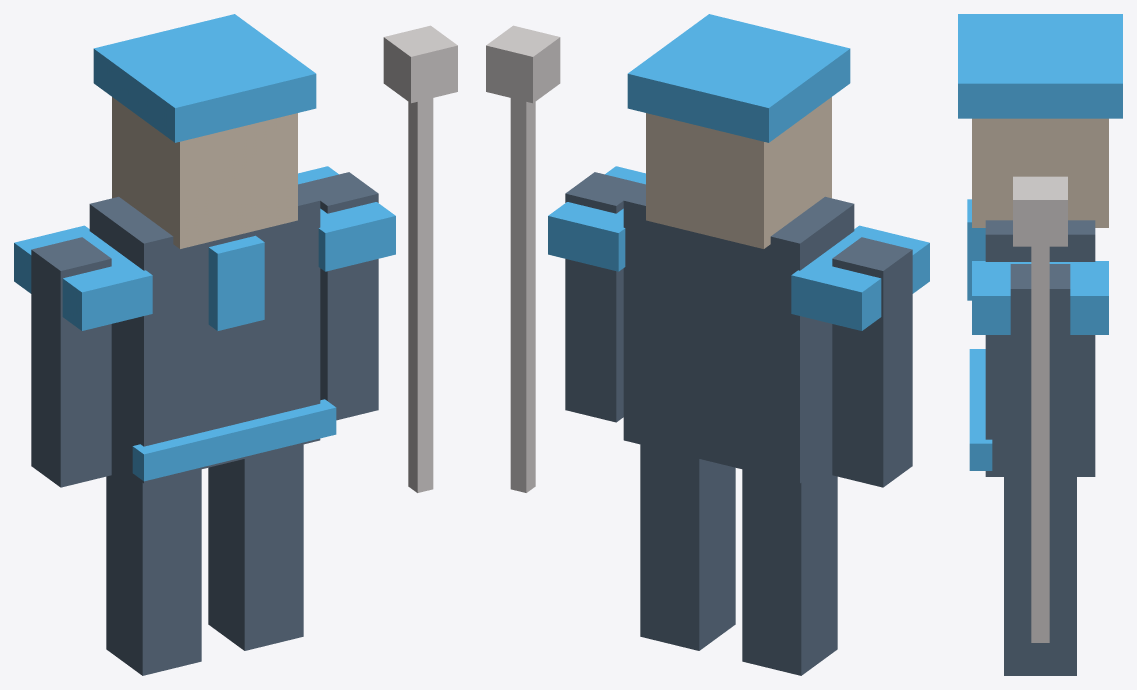
Rendered from 15_soren_gravesong_tamer_at_helipad.glb.
The picture shows the model from 3 angles, left to right: view 1: azimuth 30°, elevation 25°; view 2: azimuth 150°, elevation 25°; view 3: azimuth 270°, elevation 25°; orthographic projection.
Visible parts, largest first — view 1: Soren Gravesong, Tamer at Helipad; view 2: Soren Gravesong, Tamer at Helipad; view 3: Soren Gravesong, Tamer at Helipad.
Boxes of the visible parts, x1,y1,x2,y2 form: Soren Gravesong, Tamer at Helipad: (14, 14, 457, 675); Soren Gravesong, Tamer at Helipad: (486, 14, 929, 675); Soren Gravesong, Tamer at Helipad: (958, 14, 1122, 675).
Size of the model in its own units: 1.01 by 1.4 by 0.3565.
